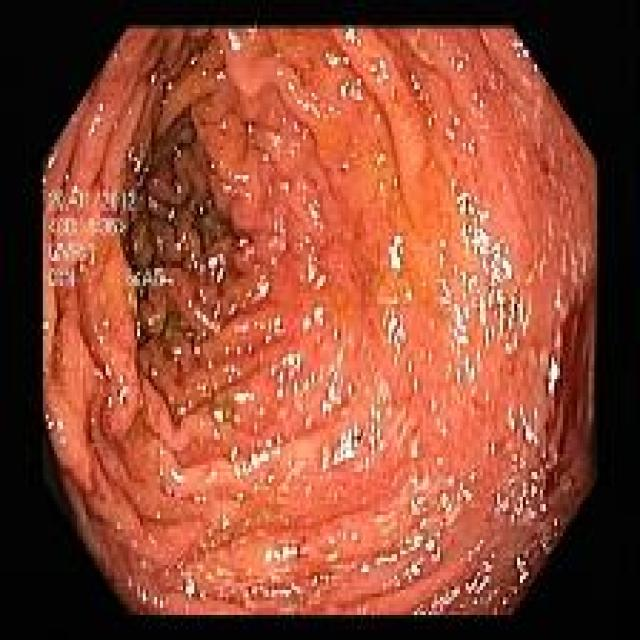ulcerative-colitis: (42, 30, 595, 616)
